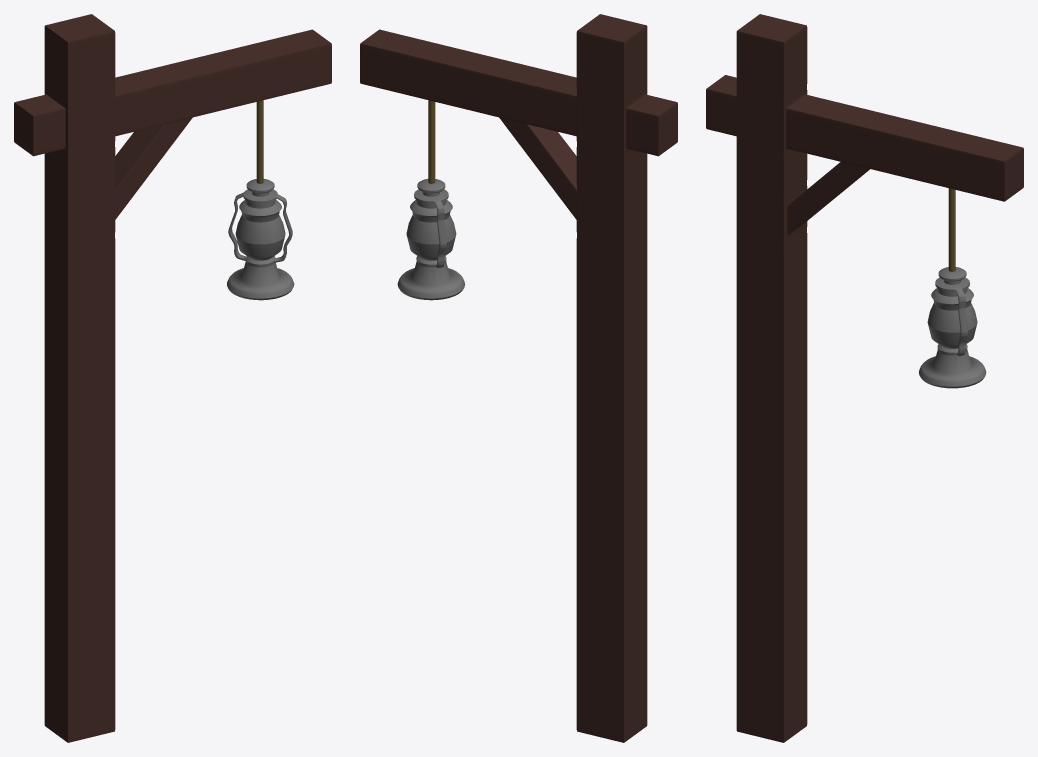
Rendered from LanternPost_RJ_0610.fbx.
3 views of the same model, side by side, from view 1: azimuth 30°, elevation 25°; view 2: azimuth 150°, elevation 25°; view 3: azimuth 330°, elevation 25° (orthographic).
Visible parts, largest first — view 1: LanternPost_RJ_07-10; view 2: LanternPost_RJ_07-10; view 3: LanternPost_RJ_07-10.
Part boxes in pixels (left/top/right/bottom): LanternPost_RJ_07-10: left=14, top=14, right=331, bottom=742; LanternPost_RJ_07-10: left=360, top=14, right=677, bottom=742; LanternPost_RJ_07-10: left=706, top=14, right=1023, bottom=742.
Bounding box in the file's own units: 116 × 261 × 22.74.
